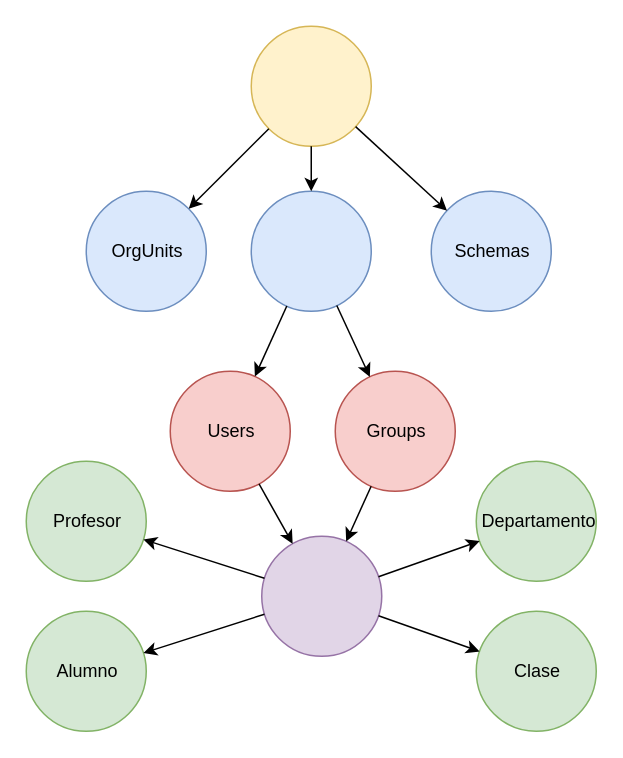
The diagram is 623 pixels wide and 758 high, and some of its shapes have lost their labels. Here are the shapes that lost their labels. From the top down, the centre of each, then its label:
At pixel 310 85: "EntidadBase".
At pixel 310 250: "GrUsers".
At pixel 321 595: "BaseComun".
